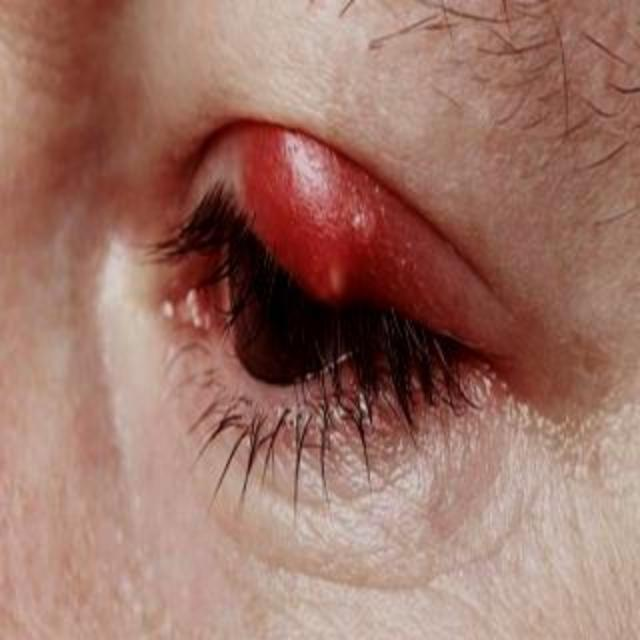Stye: (155, 102, 498, 334)
